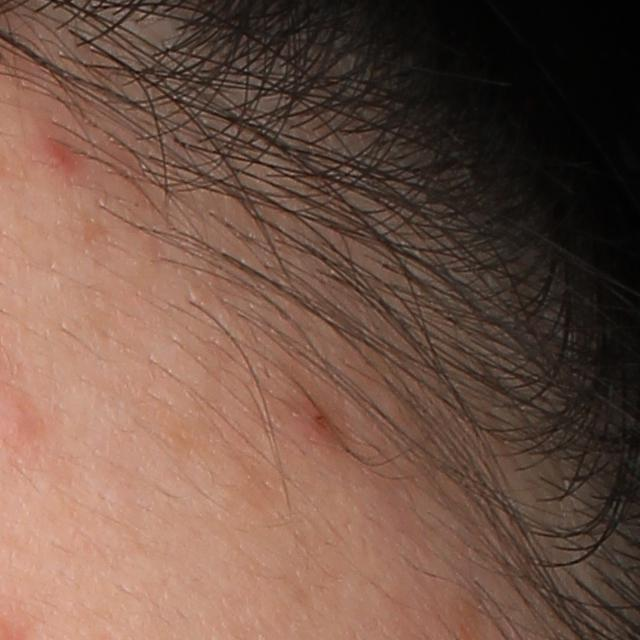papule: (42, 134, 79, 171)
